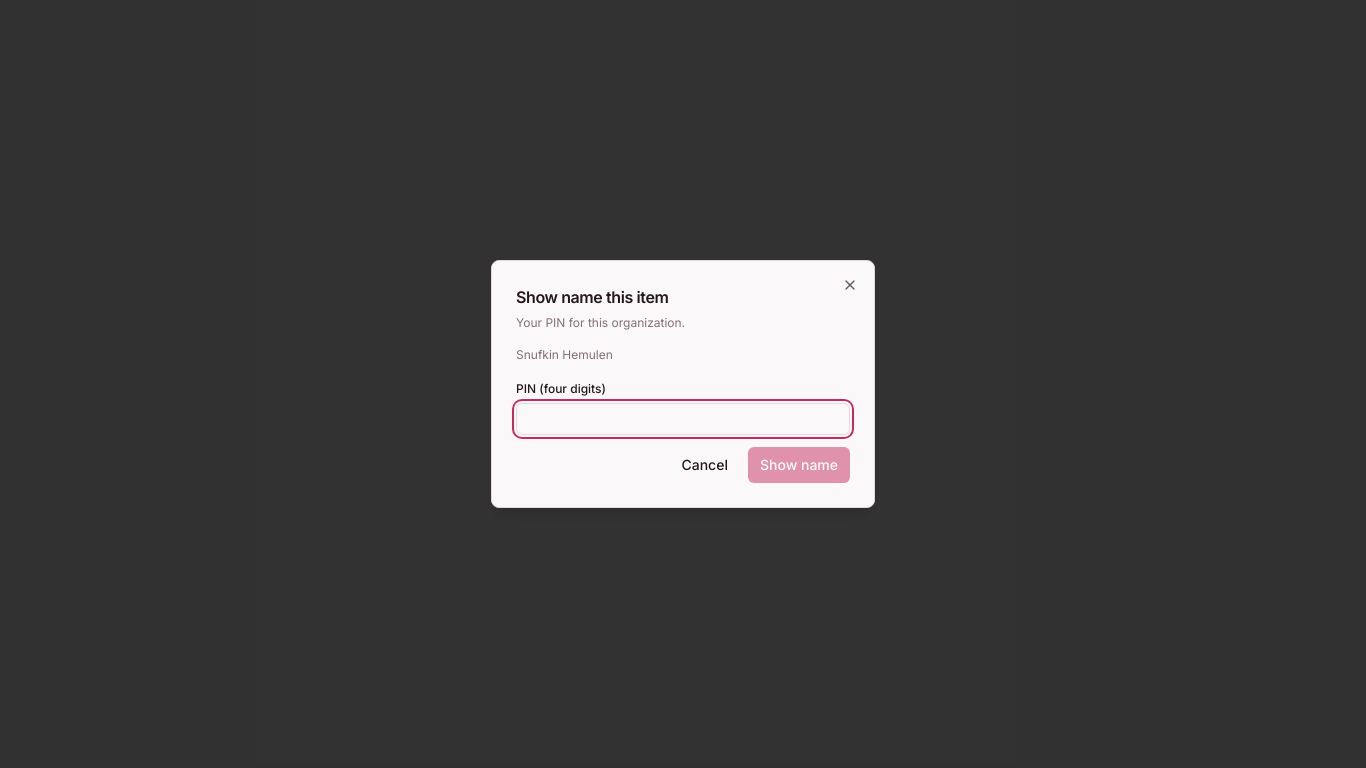
scramble PIN dialog › shows a revealed name, and says it is still scrambled
Type "4917" into the password field labelled "PIN (four digits)" at (683,419), box [516,403,850,435]
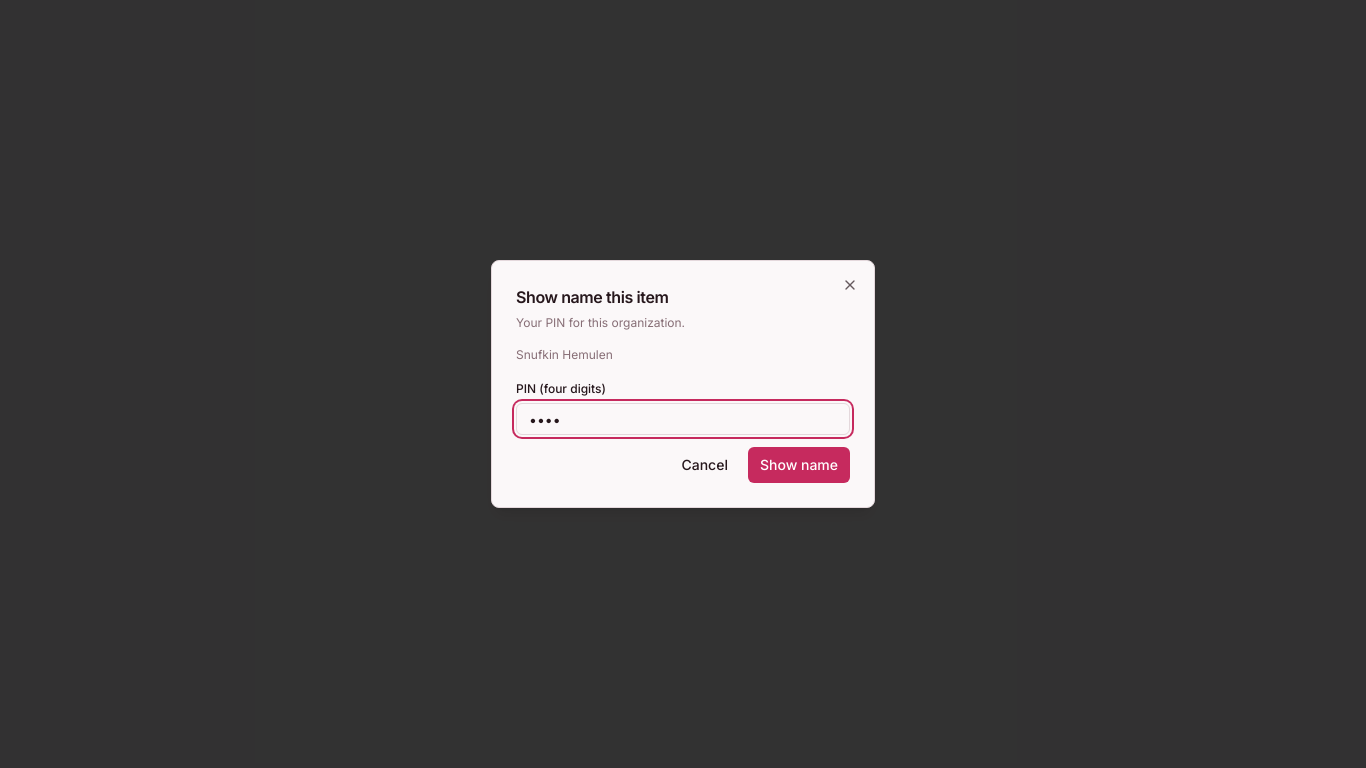
Click the button "Show name" at (799,465), box [748,447,850,483]
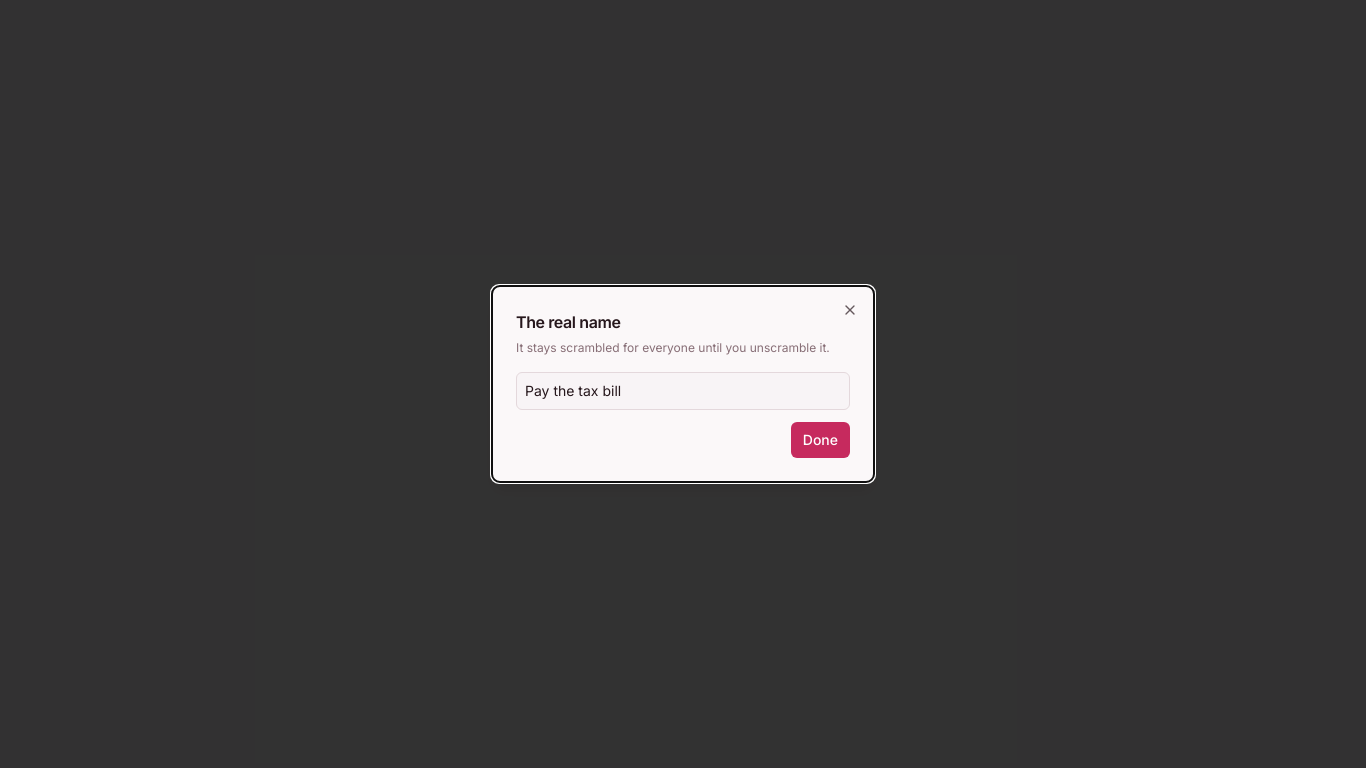
Now the text "Pay the tax bill" is shown, box [516,372,850,410]
Now the text "It stays scrambled for everyone until you unscramble it." is shown, box [516,340,850,356]
Now the label labelled "PIN (four digits)" is gone
